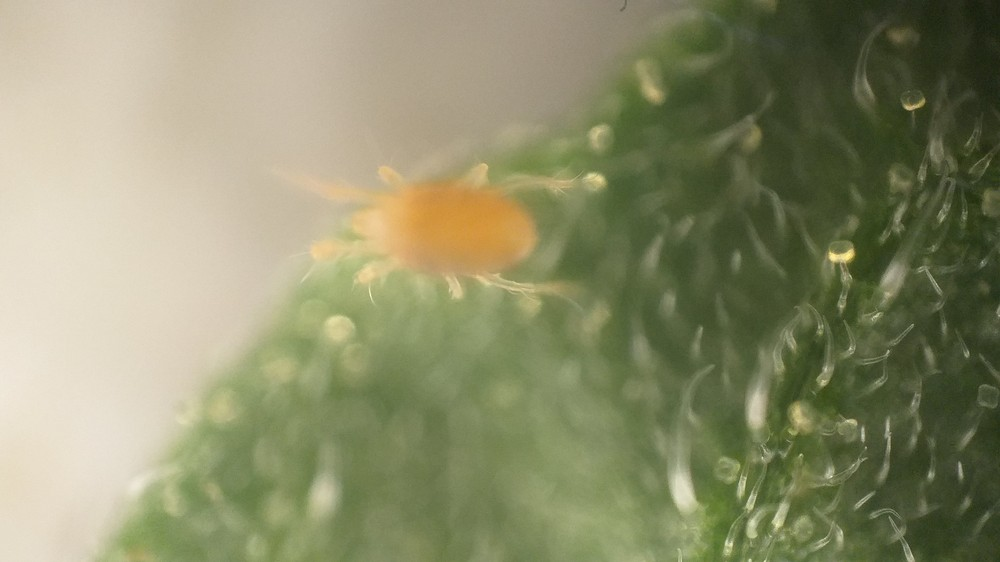Aracnido Rojo: (266, 135, 630, 356)
